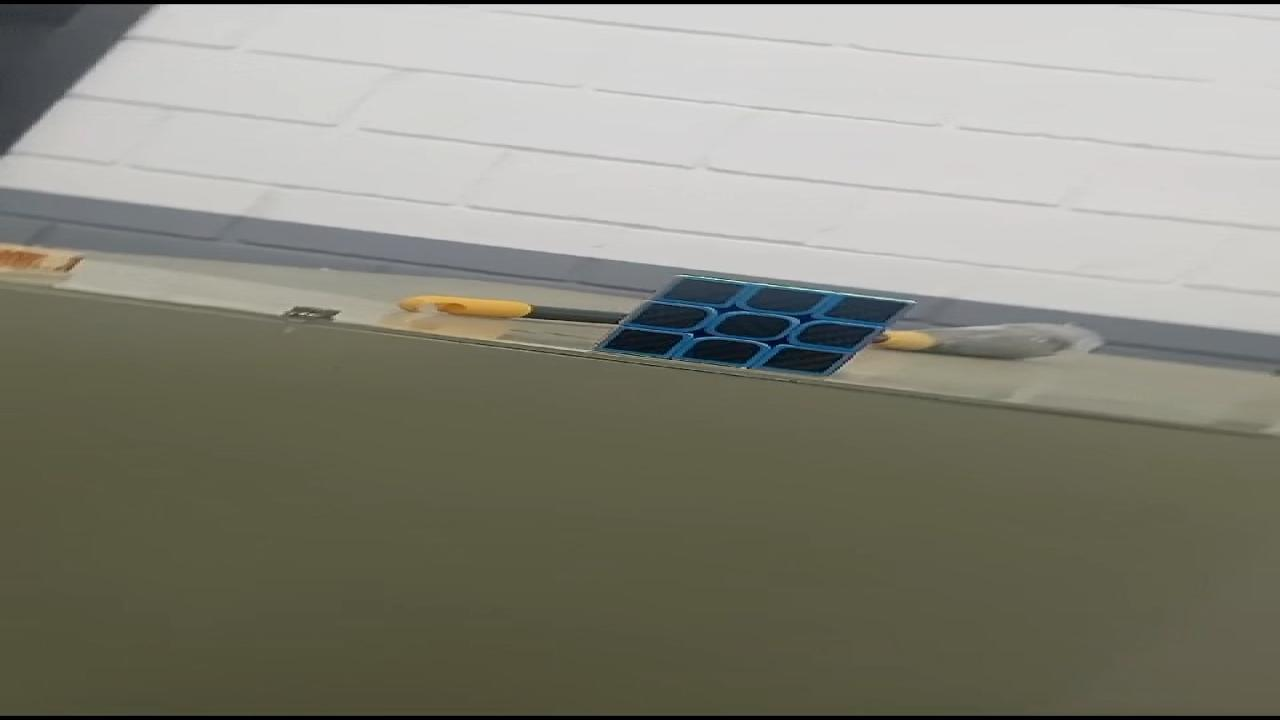Cube: (587, 272, 917, 376)
